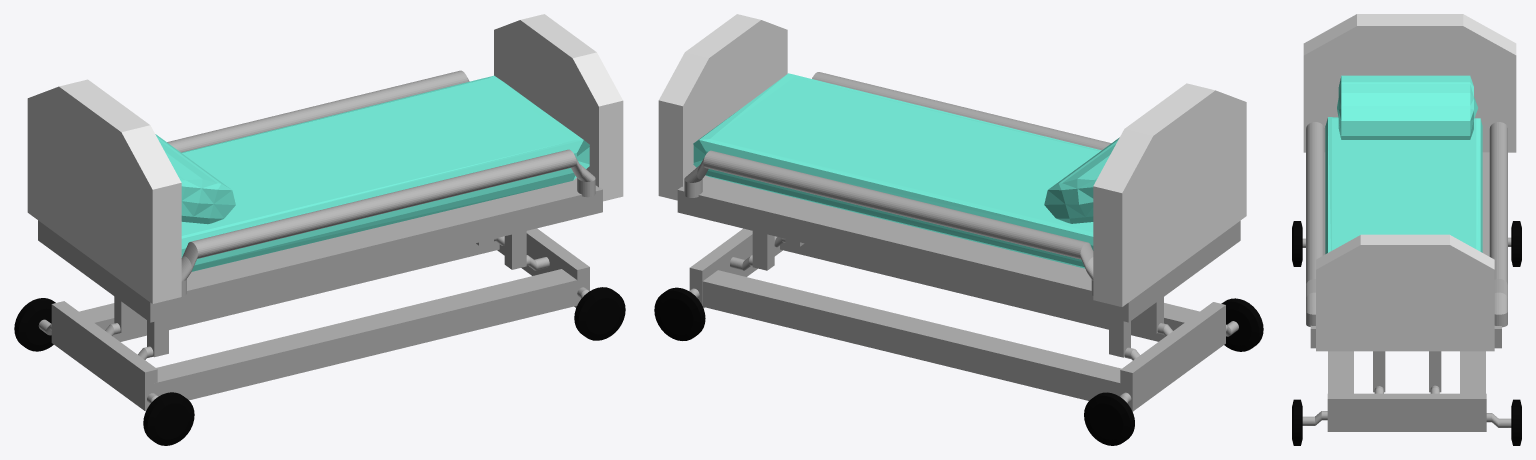
Rendered from hospbed.dae.
3 renders of one model, left to right at view 1: azimuth 30°, elevation 25°; view 2: azimuth 150°, elevation 25°; view 3: azimuth 270°, elevation 25°, orthographic. The views are drawn at different scales.
Parts seen in each view (by area): view 1: Cube.011, Cube.009, Cube.008, Cube.002, Cube.010, Cube, Cube.003, Cylinder.013, Cylinder.012, Cube.012, Cylinder.015, Cylinder.003 (+7 smaller); view 2: Cube.011, Cube.009, Cube.008, Cube.003, Cube.010, Cube, Cube.002, Cylinder.015, Cylinder.014, Cube.012, Cylinder.002, Cylinder.001 (+6 smaller); view 3: Cube.010, Cube.011, Cube.009, Cube.012, Cube.001, Cylinder.015, Cylinder.013, Cylinder.012, Cylinder.014, Cube.008, Cube.003, Cube.002 (+8 smaller).
Boxes of the visible parts, x1,y1,x2,y2 form: Cube.011: [181, 75, 589, 271]; Cube.009: [27, 79, 181, 303]; Cube.008: [38, 177, 602, 322]; Cube.002: [154, 269, 577, 400]; Cube.010: [494, 14, 623, 201]; Cube: [51, 301, 157, 410]; Cube.003: [79, 241, 499, 341]; Cylinder.013: [380, 149, 595, 212]; Cylinder.012: [181, 195, 387, 296]; Cube.012: [155, 134, 235, 224]; Cylinder.015: [272, 70, 469, 128]; Cylinder.003: [574, 287, 625, 340]; Cube.011: [693, 73, 1101, 268]; Cube.009: [1093, 83, 1246, 306]; Cube.008: [677, 175, 1240, 322]; Cube.003: [702, 270, 1121, 400]; Cube.010: [658, 14, 787, 200]; Cube: [1120, 302, 1225, 411]; Cube.002: [780, 242, 1199, 341]; Cylinder.015: [684, 150, 899, 213]; Cylinder.014: [892, 196, 1093, 295]; Cube.012: [1044, 137, 1119, 223]; Cylinder.002: [654, 287, 705, 340]; Cylinder.001: [1084, 392, 1134, 445]; Cube.010: [1316, 234, 1494, 351]; Cube.011: [1325, 117, 1482, 254]; Cube.009: [1303, 14, 1516, 152]; Cube.012: [1337, 75, 1477, 139]; Cube.001: [1327, 393, 1486, 431]; Cylinder.015: [1489, 200, 1507, 327]; Cylinder.013: [1306, 200, 1324, 326]; Cylinder.012: [1306, 122, 1324, 206]; Cylinder.014: [1489, 122, 1507, 206]; Cube.008: [1310, 152, 1501, 348]; Cube.003: [1460, 351, 1485, 393]; Cube.002: [1328, 351, 1353, 393].
Bounding box in the file's own units: 10.38 × 4.96 × 5.86.
